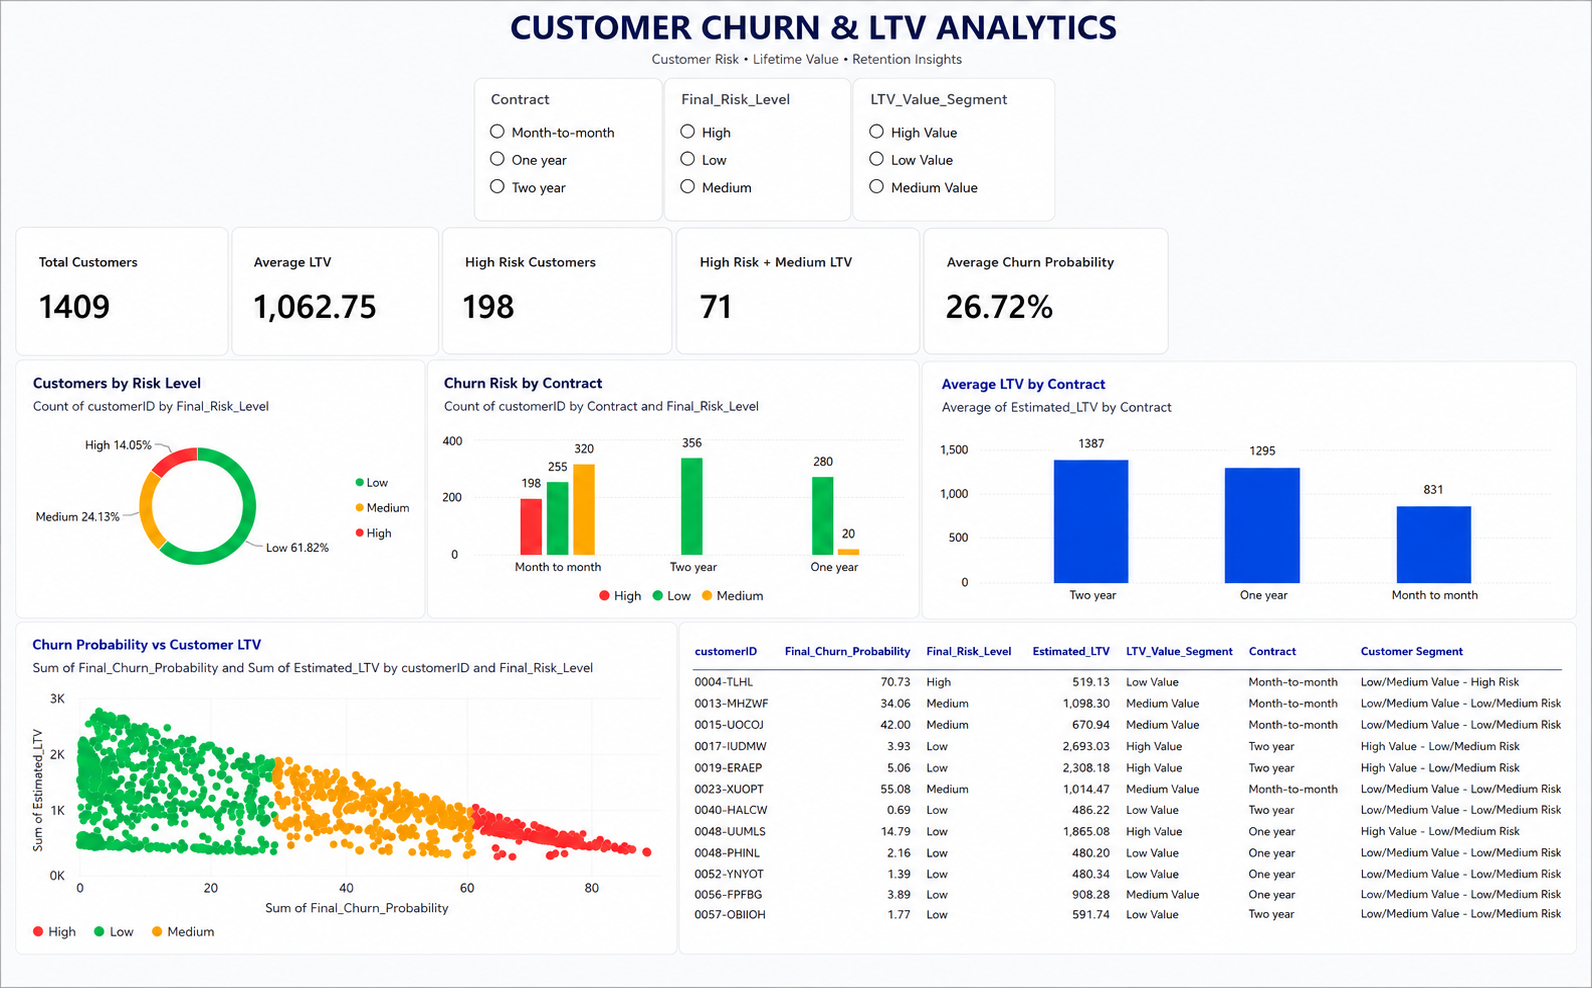

What the dashboard file says about the page in this screenshot:
{"tool":"powerbi","page":{"name":"Page 1","canvas":[1920,1200],"ordinal":0},"visuals":[{"type":"cardVisual","title":"Total Customers","fields":{"Data":["Count(final_customer_churn_ltv.customerID)"]},"box":[0,261.4,280,280],"z":0},{"type":"cardVisual","fields":{"Data":["Avg(final_customer_churn_ltv.Estimated_LTV)"]},"box":[279.9,261.4,280,280],"z":1000},{"type":"cardVisual","fields":{"Data":["Count(final_customer_churn_ltv.customerID)"]},"box":[559.9,261.4,280,280],"z":2000},{"type":"cardVisual","fields":{"Data":["Count(final_customer_churn_ltv.customerID)"]},"box":[839.8,261.4,280,280],"z":3000},{"type":"cardVisual","fields":{"Data":["final_customer_churn_ltv.Average Churn Probability %"]},"box":[1119.7,261.4,280,280],"z":4000},{"type":"donutChart","title":"Customers by Risk Level","fields":{"Category":["final_customer_churn_ltv.Final_Risk_Level"],"Y":["CountNonNull(final_customer_churn_ltv.customerID)"]},"box":[0,541.3,520,285],"z":5000},{"type":"clusteredColumnChart","title":"Churn Risk by Contract","fields":{"Category":["final_customer_churn_ltv.Contract"],"Y":["CountNonNull(final_customer_churn_ltv.customerID)"],"Series":["final_customer_churn_ltv.Final_Risk_Level"]},"box":[520.8,543.4,600,285],"z":6000},{"type":"clusteredColumnChart","title":"Average LTV by Contract","fields":{"Category":["final_customer_churn_ltv.Contract"],"Y":["Avg(final_customer_churn_ltv.Estimated_LTV)"]},"box":[1119.7,545.5,800,285],"z":7000},{"type":"scatterChart","title":"Churn Probability vs Customer LTV","fields":{"X":["Sum(final_customer_churn_ltv.Final_Churn_Probability)"],"Y":["Sum(final_customer_churn_ltv.Estimated_LTV)"],"Series":["final_customer_churn_ltv.Final_Risk_Level"],"Category":["final_customer_churn_ltv.customerID"]},"box":[0,831.6,840,370],"z":8000},{"type":"tableEx","fields":{"Values":["final_customer_churn_ltv.customerID","final_customer_churn_ltv.Final_Churn_Probability","final_customer_churn_ltv.Final_Risk_Level","final_customer_churn_ltv.Estimated_LTV","final_customer_churn_ltv.LTV_Value_Segment","final_customer_churn_ltv.Contract","final_customer_churn_ltv.Customer_Segment"]},"box":[839.8,831.6,1080,370],"z":9000},{"type":"textbox","box":[0,0,1920.4,78.2],"z":10000},{"type":"listSlicer","fields":{"Values":["final_customer_churn_ltv.Contract"]},"box":[582.5,78.2,197.6,185.2],"z":11000},{"type":"listSlicer","fields":{"Values":["final_customer_churn_ltv.Final_Risk_Level"]},"box":[780.1,80.3,199.7,183.2],"z":12000},{"type":"listSlicer","fields":{"Values":["final_customer_churn_ltv.LTV_Value_Segment"]},"box":[979.8,78.2,216.1,183.2],"z":13000}]}

Visuals, with their boxes in screenshot pixels (x1, y1, x2, y2), scaled from the page's 1920x1200 canvas onto the 1592x988 screenshot:
"Total Customers" cardVisual: bbox=(0, 215, 232, 446)
cardVisual - Avg(final_customer_churn_ltv.Estimated_LTV): bbox=(232, 215, 464, 446)
cardVisual - Count(final_customer_churn_ltv.customerID): bbox=(464, 215, 696, 446)
cardVisual - Count(final_customer_churn_ltv.customerID): bbox=(696, 215, 929, 446)
cardVisual - final_customer_churn_ltv.Average Churn Probability %: bbox=(928, 215, 1161, 446)
"Customers by Risk Level" donutChart: bbox=(0, 446, 431, 680)
"Churn Risk by Contract" clusteredColumnChart: bbox=(432, 447, 929, 682)
"Average LTV by Contract" clusteredColumnChart: bbox=(928, 449, 1591, 684)
"Churn Probability vs Customer LTV" scatterChart: bbox=(0, 685, 696, 987)
tableEx - final_customer_churn_ltv.customerID x final_customer_churn_ltv.Final_Churn_Probability: bbox=(696, 685, 1591, 987)
textbox: bbox=(0, 0, 1591, 64)
listSlicer - final_customer_churn_ltv.Contract: bbox=(483, 64, 647, 217)
listSlicer - final_customer_churn_ltv.Final_Risk_Level: bbox=(647, 66, 812, 217)
listSlicer - final_customer_churn_ltv.LTV_Value_Segment: bbox=(812, 64, 992, 215)
